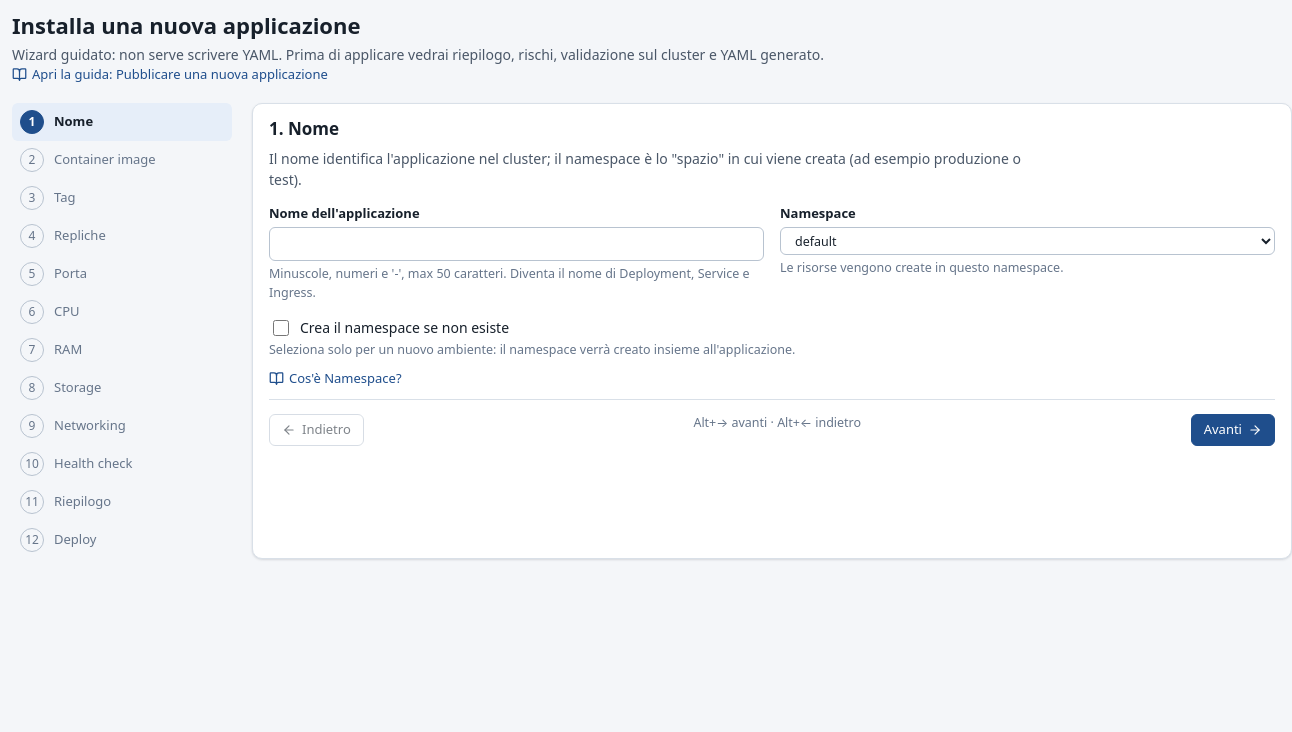
Test case: DeployWizard › blocks the first step on an invalid name
Type "Bad_Name" into the field labelled "Nome dell'applicazione" at (516, 244), box [269,227,764,261]
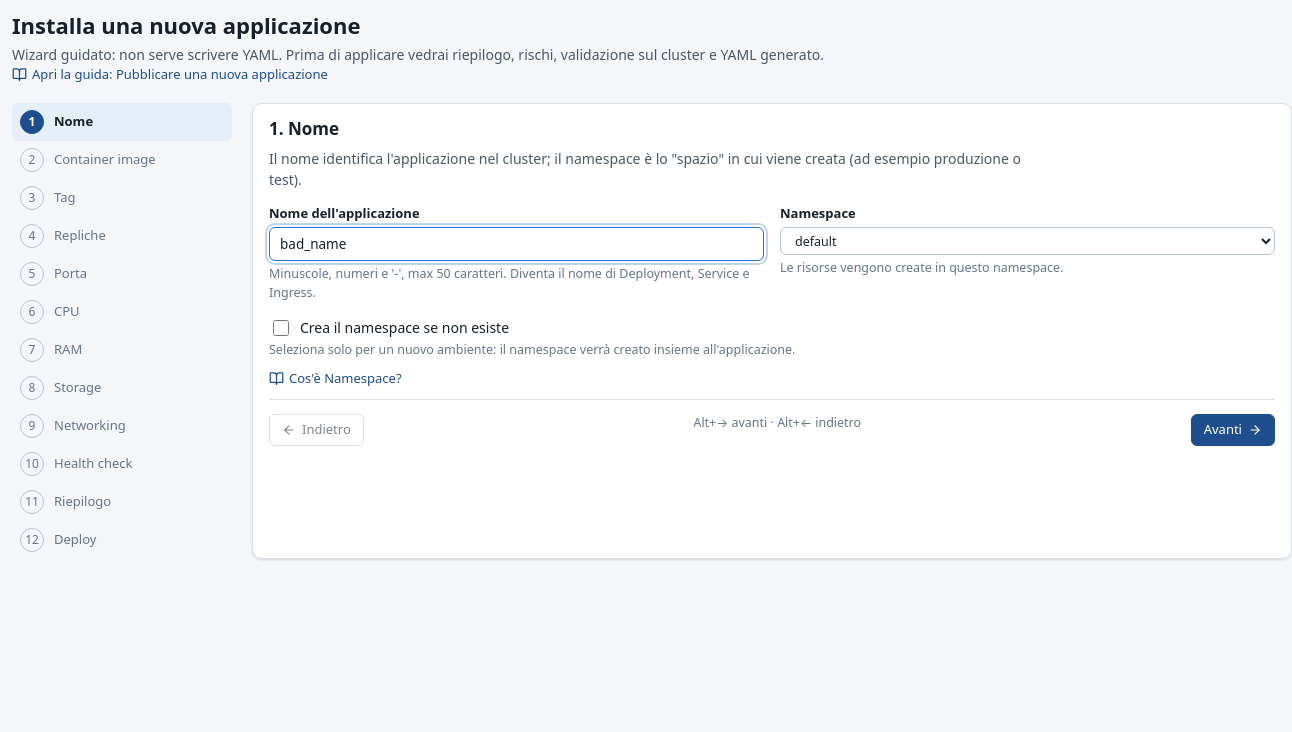
Click the button "Avanti" at (1233, 430), box [1191,414,1275,446]
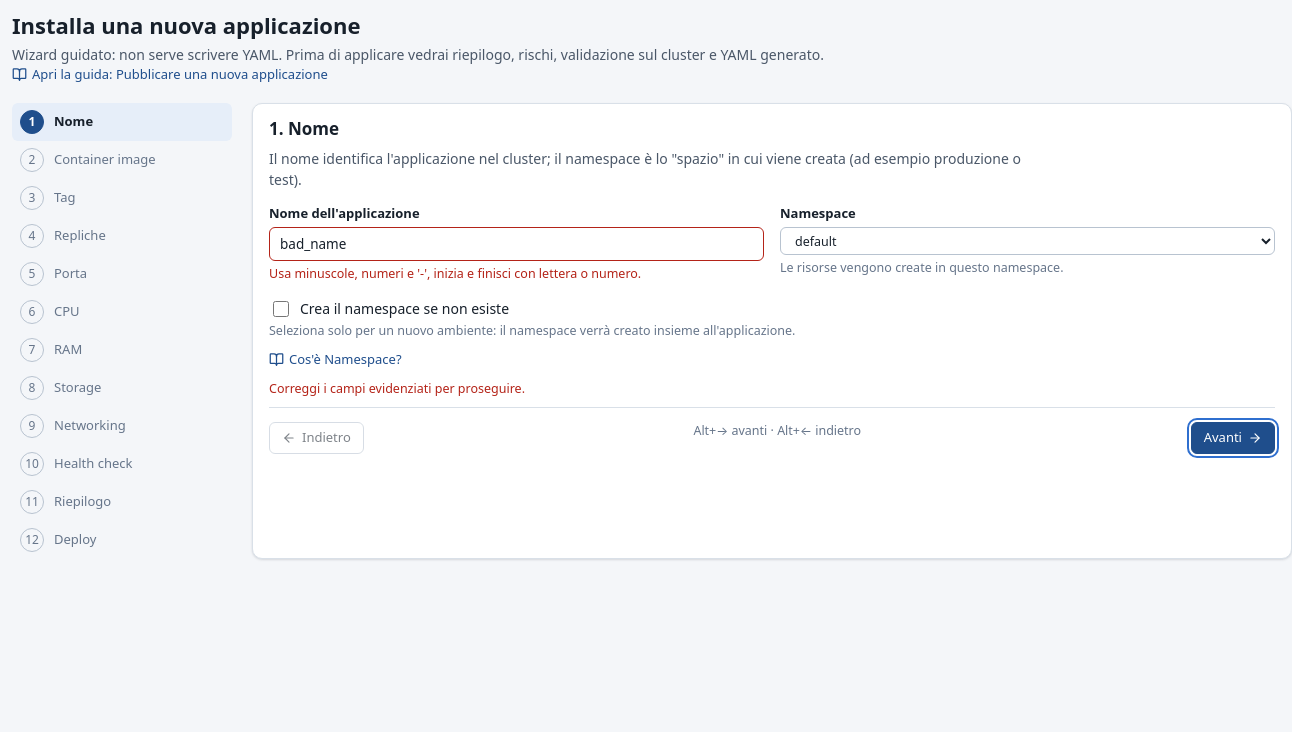
Expected: the heading "1. Nome" is shown, [269,117,339,140]
Expected: the text "Usa minuscole, numeri e '-', inizia e finisci con lettera o numero." is shown, [269,265,641,282]
